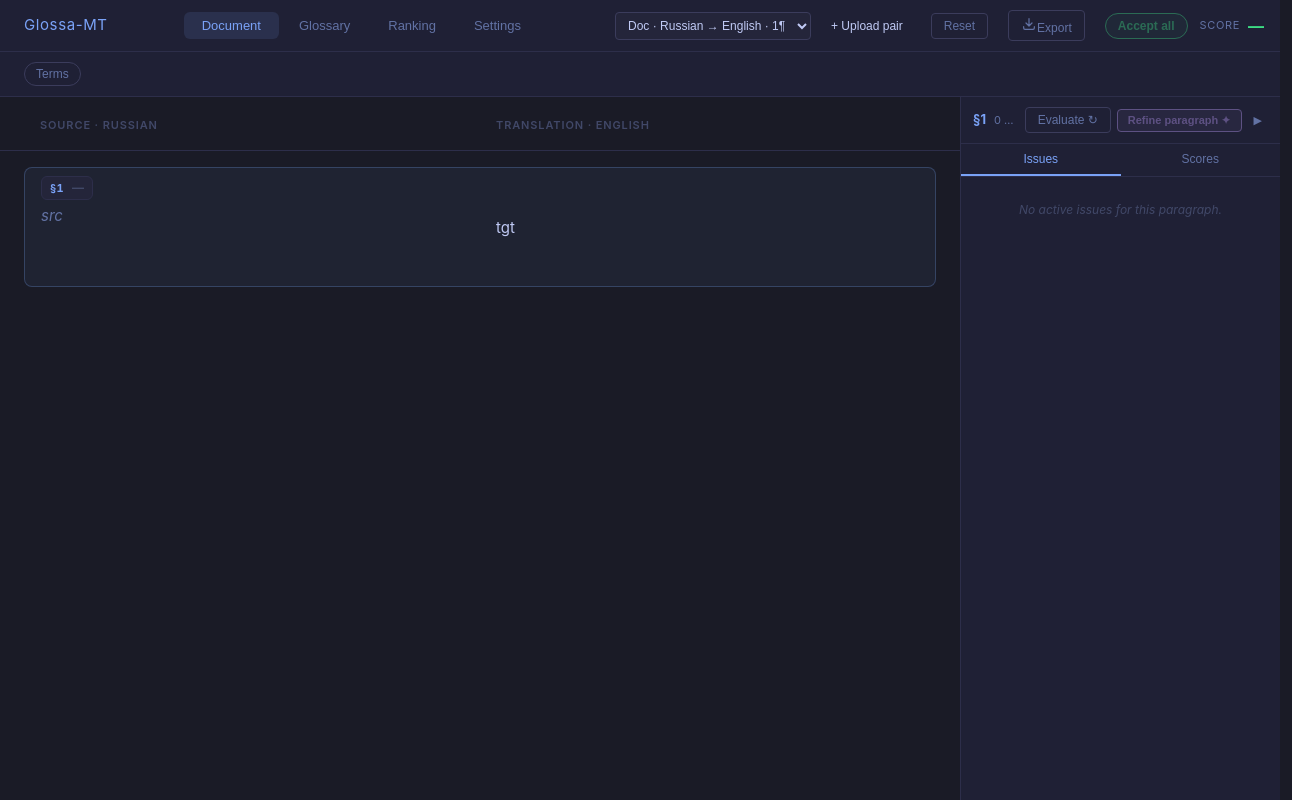
Test: Export control (audit-fix HIGH: dropdown items were unclickable) › opens the menu on click, with both formats present and correctly wired
The image size is (1292, 800).
Click the button with test id "export-btn" at coordinates (1046, 26), box [1008,10,1085,41]
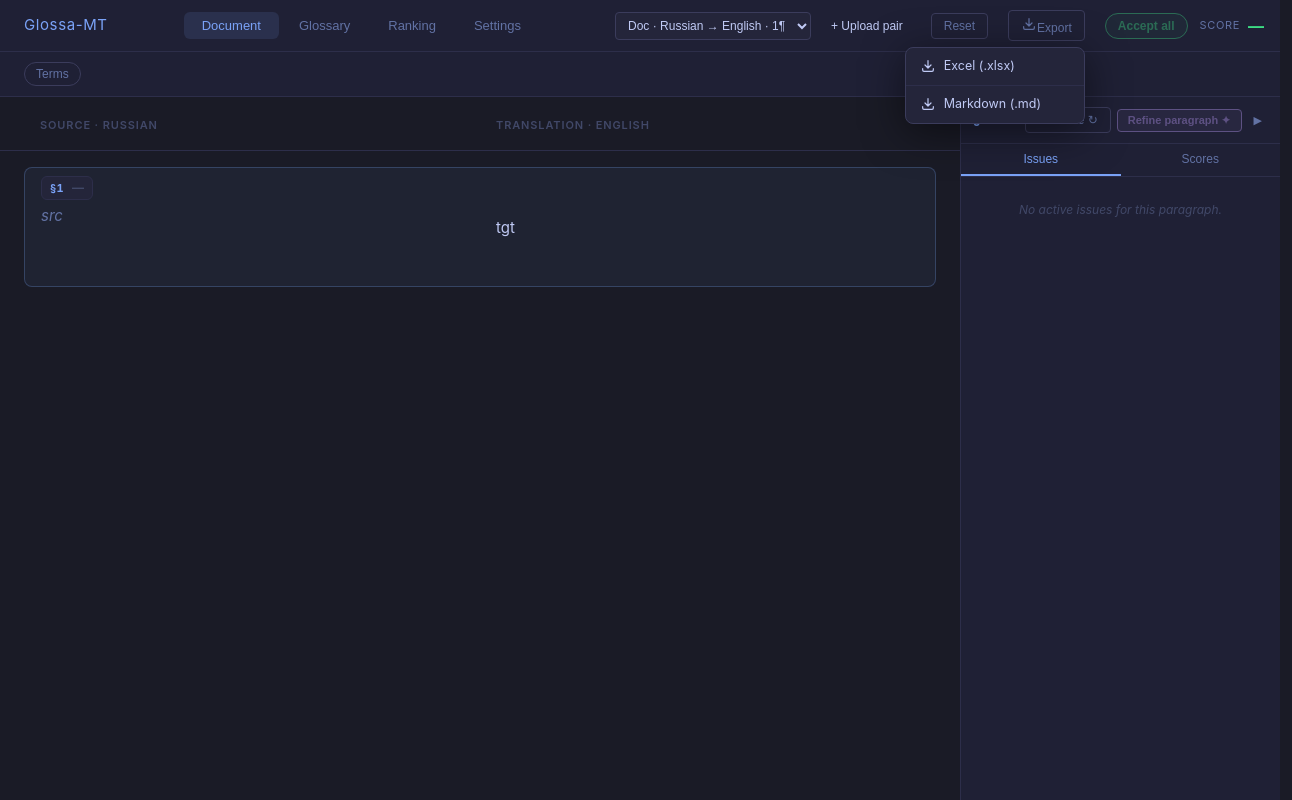
Check: the element with test id "export-menu" is shown, box [905,47,1085,124]
Check: the element with test id "export-xlsx" is shown, box [906,48,1084,86]
Check: the element with test id "export-md" is shown, box [920,96,1041,112]
